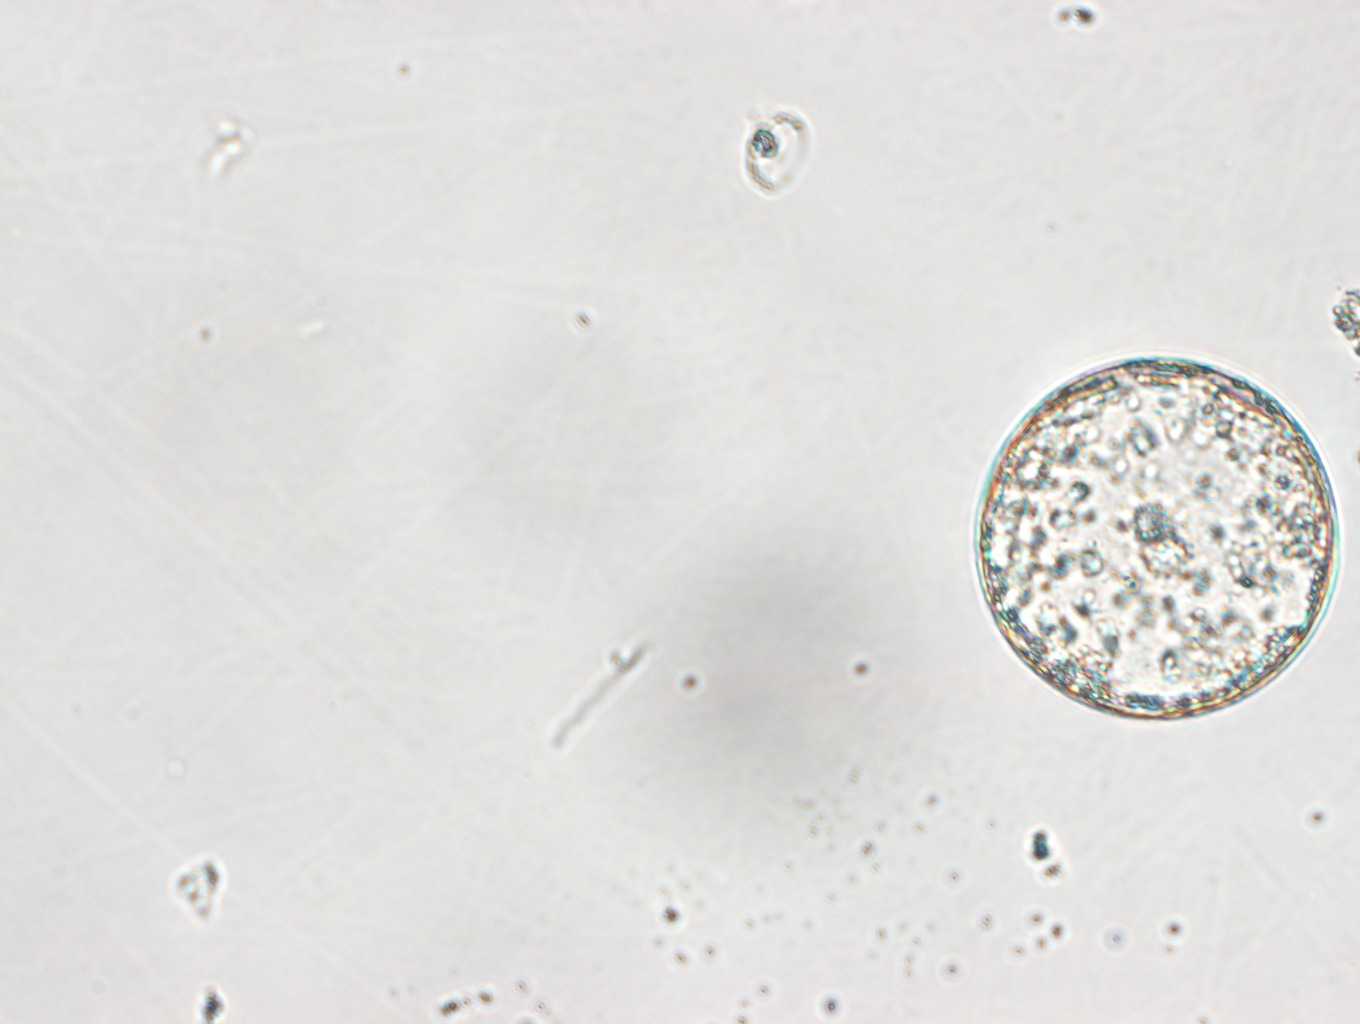coscinodiscus: (974, 357, 1338, 720)
